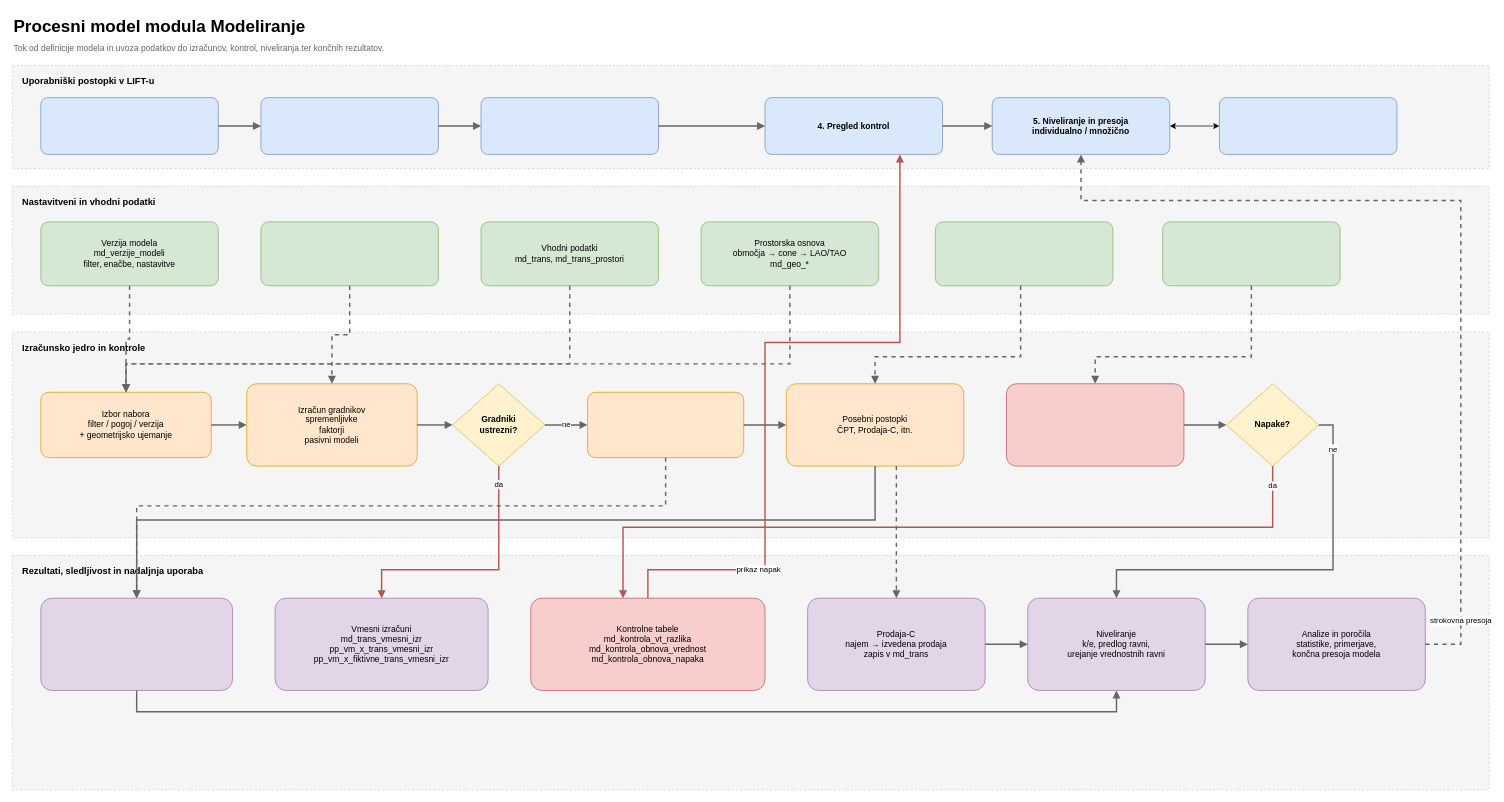
The diagram is 1504 pixels wide and 802 high, and some of its shapes have lost their labels. The shapes that lost their labels are listed below. From the top down, each one's centre as x and y in pixels, then its label:
the point at 129,125: 1. Definicija modela model, verzija, enačbe, gradniki
the point at 349,125: 2. Uvoz / osvežitev transakcij
the point at 569,125: 3. Zagon izračunov leva/desna
the point at 1308,125: 6. Coniranje
the point at 349,253: Gradniki modela spremenljivke, faktorji, pasivni modeli
the point at 1024,253: MN konfiguracija prodajni + najemni + MN md_pasivni_modeli
the point at 1251,253: Tabele vrednosntih ravni md_tvr, vrednostne tabele md_vt, faktorji in razredi
the point at 665,425: Izračun formul leva stran desna stran
the point at 1095,424: Kontrole VT razlika, obnova, topologija in kombinacije
the point at 136,643: Končni rezultati md_trans pp_vm_x_trans pp_vm_x_podposli pp_vm_x_fiktivne_trans
